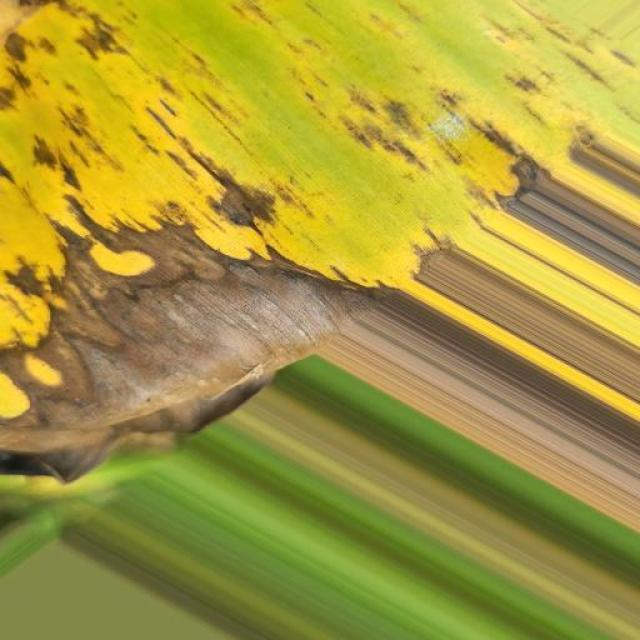Early_rust: (0, 0, 589, 533)
